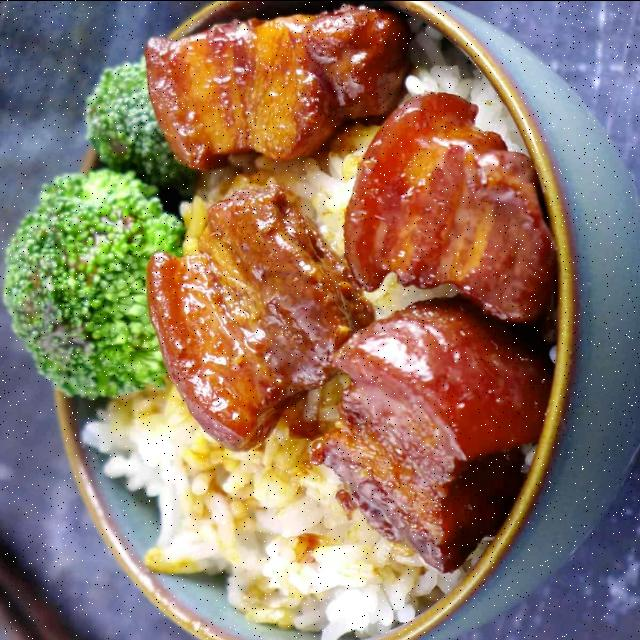Green veg: (4, 56, 196, 398)
Pork: (147, 92, 555, 571), (146, 6, 407, 170)
Rice: (82, 374, 490, 640), (405, 21, 528, 151), (276, 124, 379, 254)
